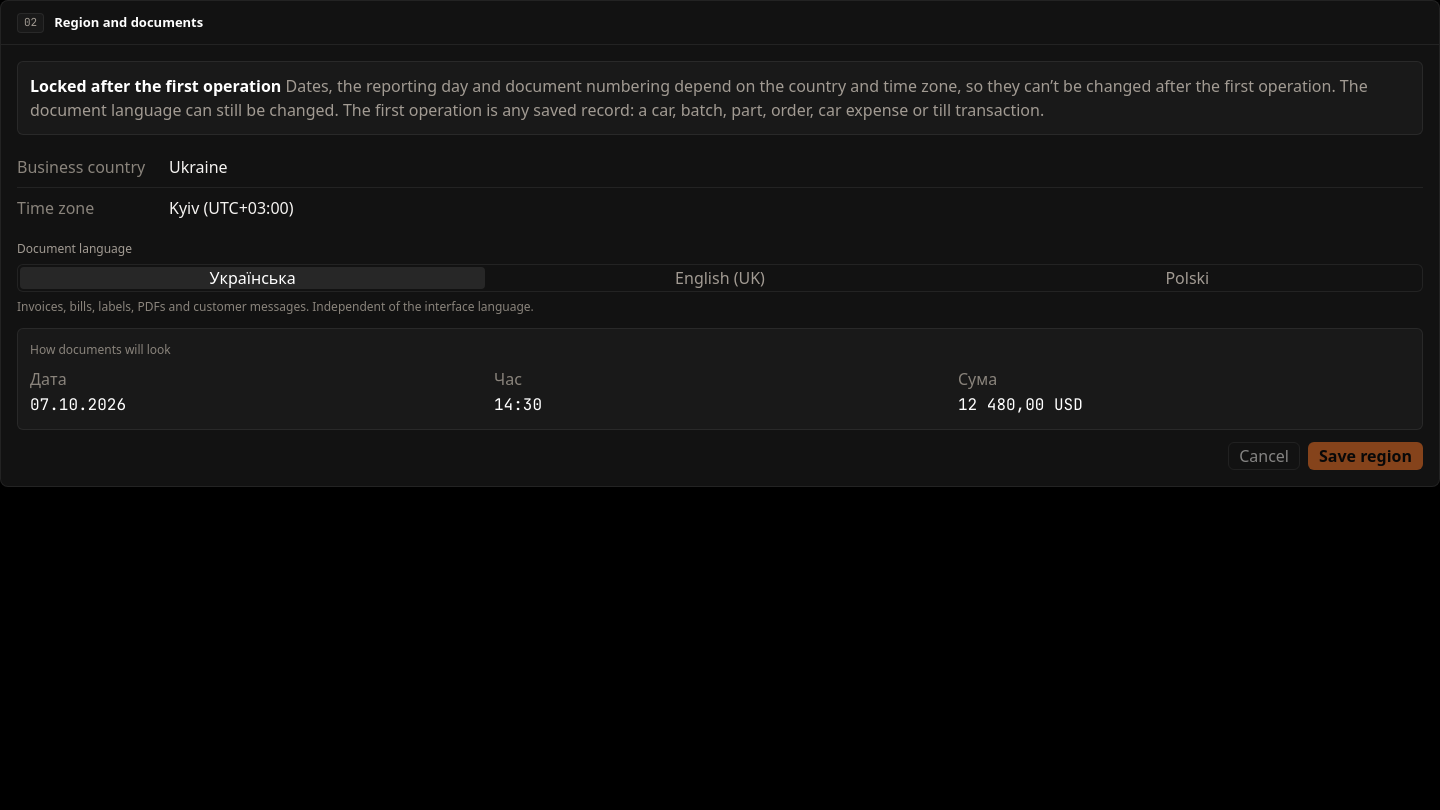
Test case: reads the region back after a lost answer and accepts what was saved
Step 1. Click the button "Polski" → (1187, 278), box [955,267,1420,289]
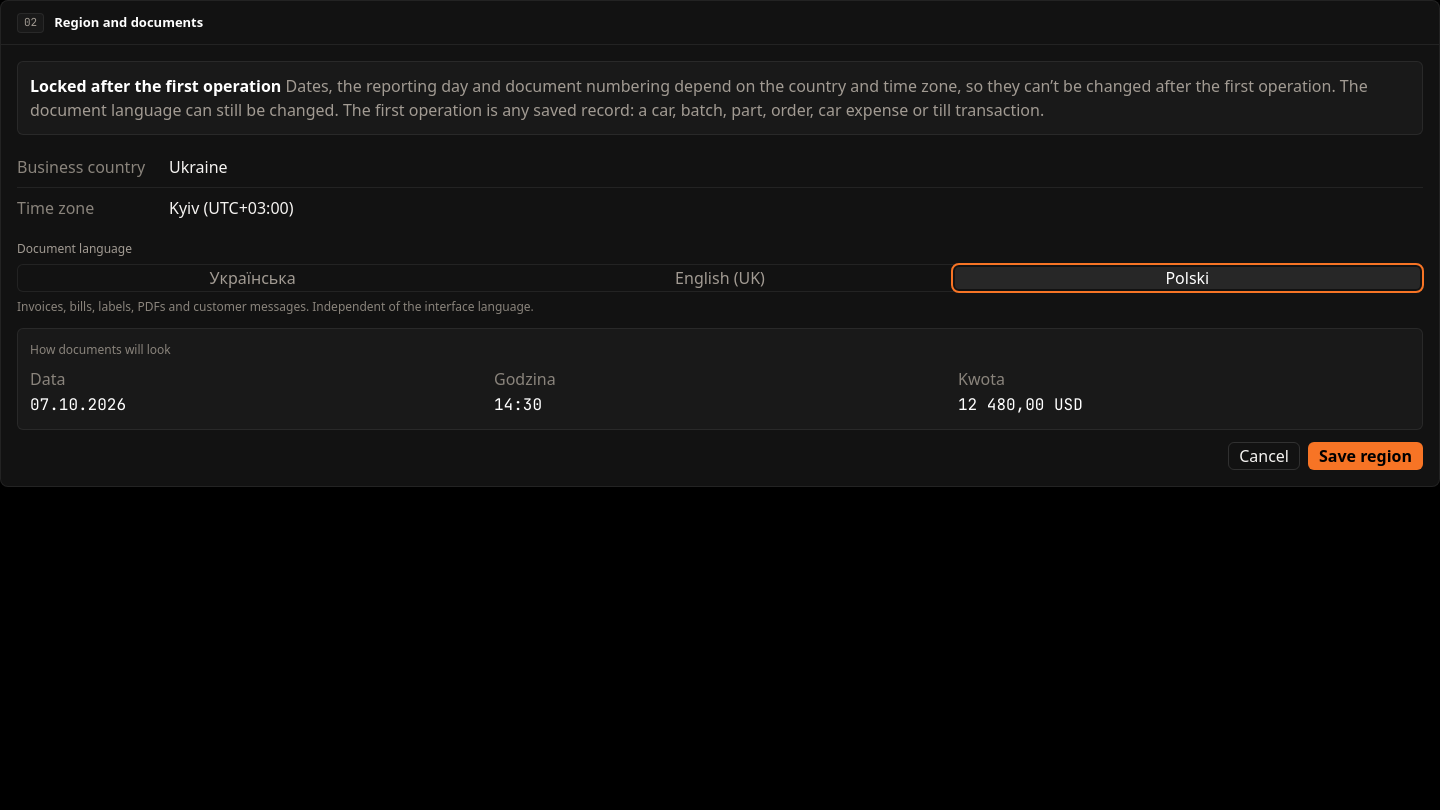
Step 2. Click the button "Save region" → (1366, 456), box [1308,442,1423,470]
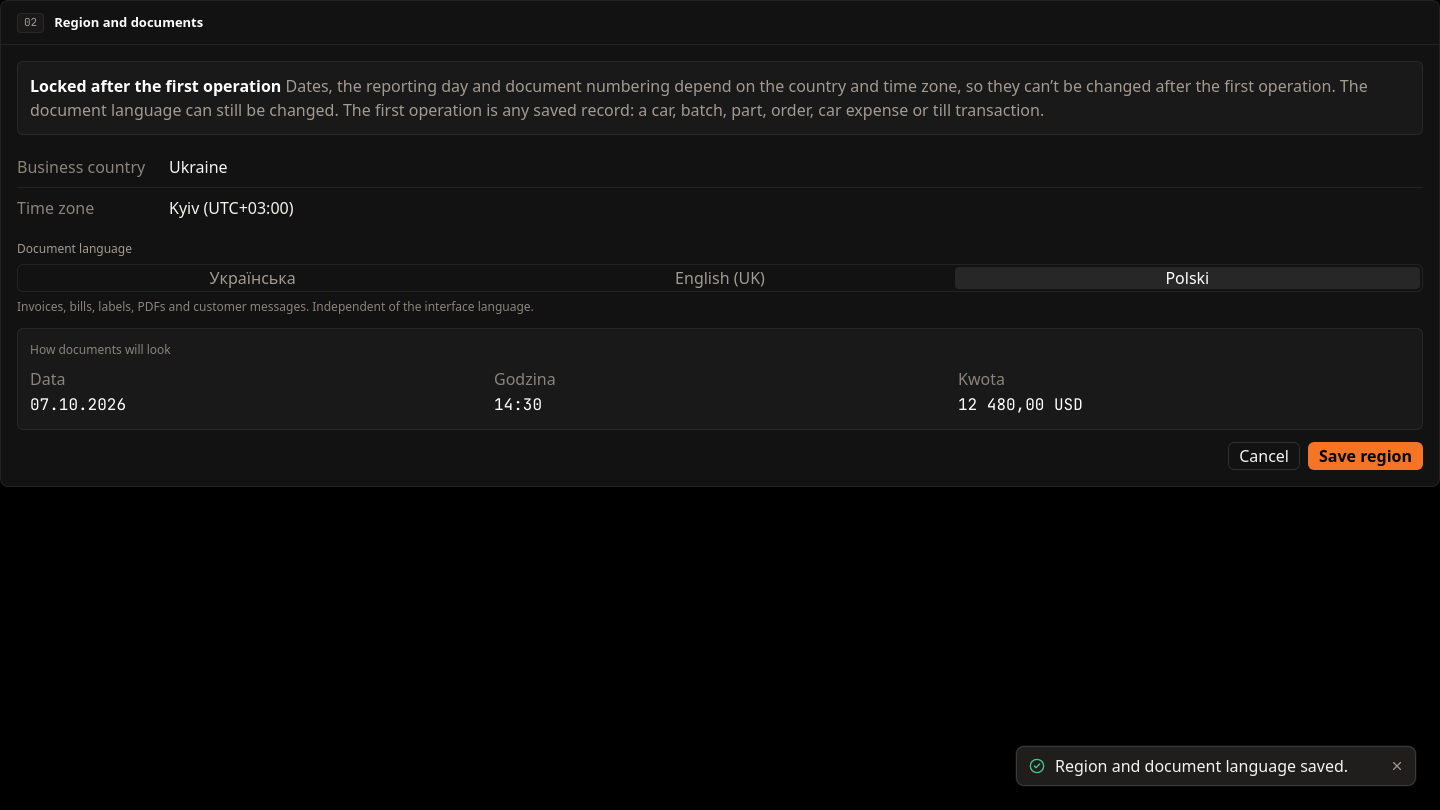
Check: the message reads "Region and document language saved.", box [1055,755,1348,777]
